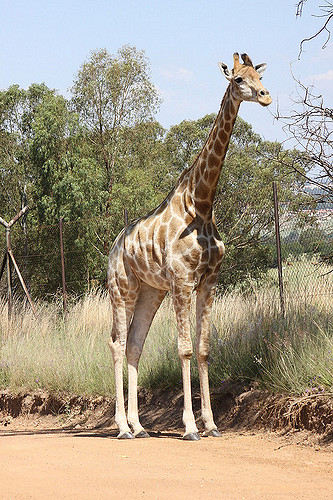giraffe: (81, 36, 289, 467)
